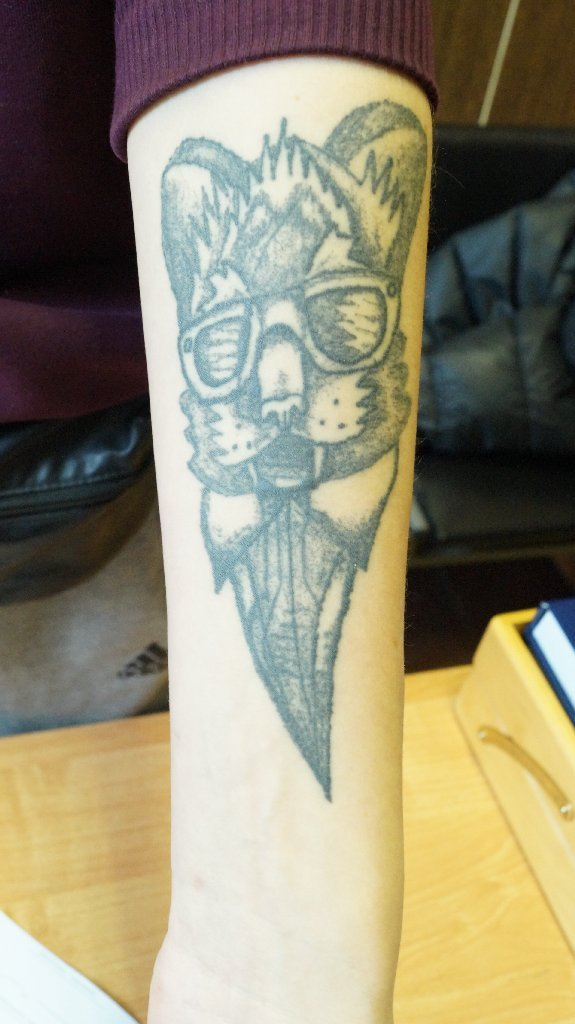tatu8_kot: (157, 120, 444, 684)
